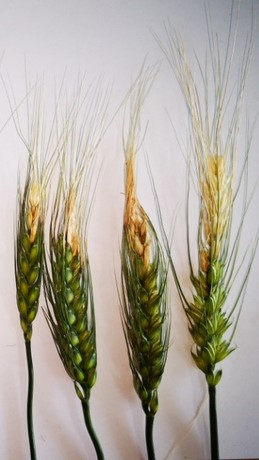Wheat scab: (110, 172, 175, 405), (48, 155, 104, 408), (182, 149, 241, 380), (6, 139, 46, 340)
